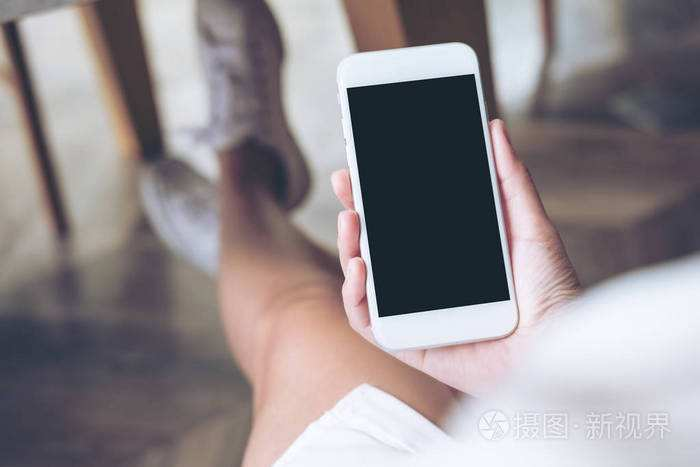phone: (317, 39, 586, 389)
